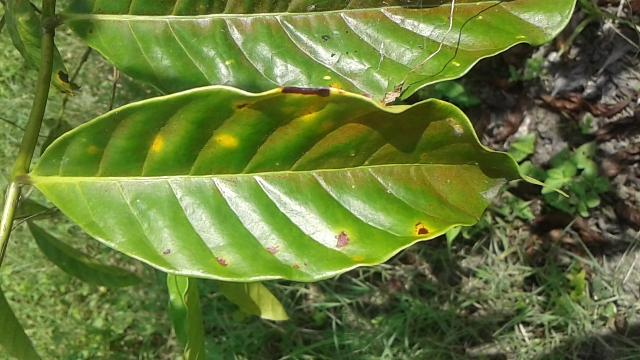rust_level_2: (30, 85, 540, 280)
